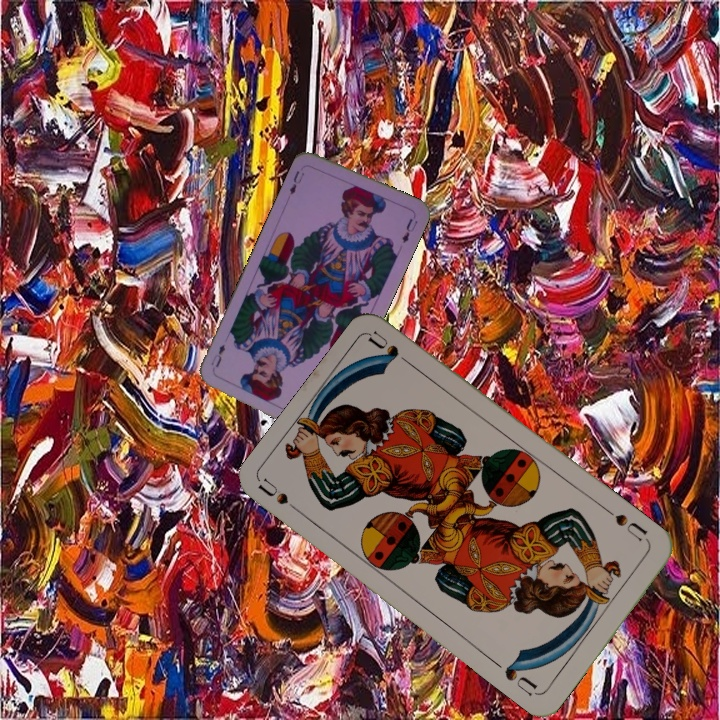EU: (285, 166, 307, 197)
SU: (255, 475, 308, 520), (611, 510, 653, 547)
